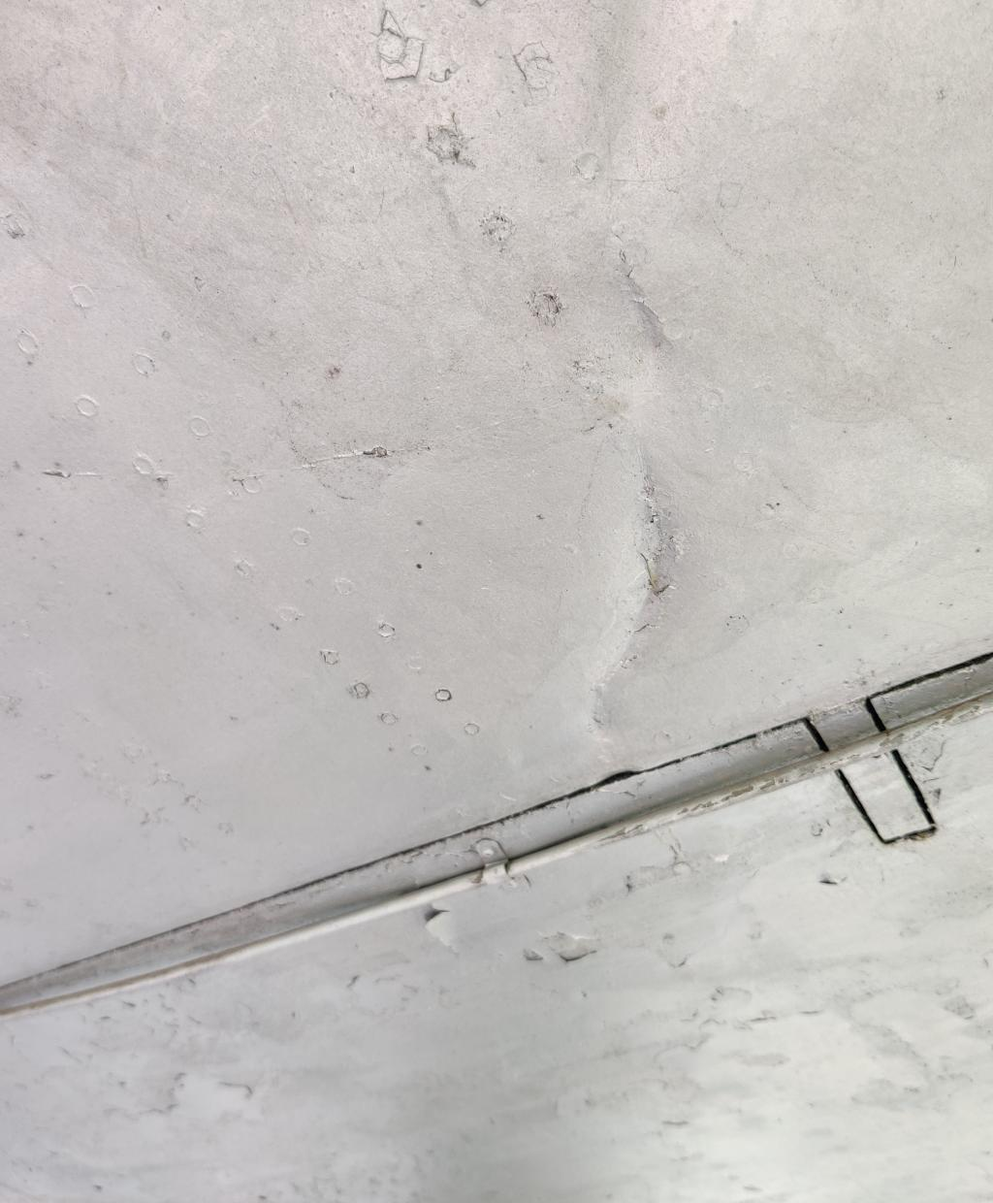dent: (527, 405, 728, 762)
